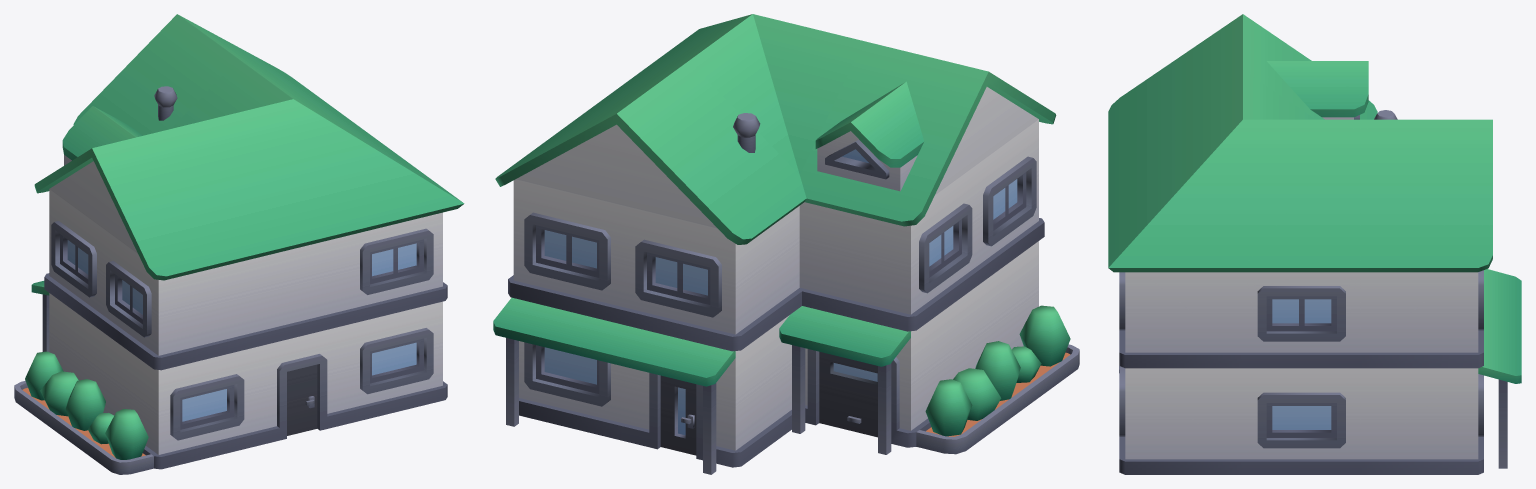
File: suburban-building-type-f.glb
3 renders of one model, left to right at view 1: azimuth 30°, elevation 25°; view 2: azimuth 150°, elevation 25°; view 3: azimuth 270°, elevation 25°, orthographic. The views are drawn at different scales.
Parts seen in each view (by area): view 1: building-type-f; view 2: building-type-f; view 3: building-type-f.
Boxes of the visible parts, x1,y1,x2,y2 form: building-type-f: [14, 14, 464, 474]; building-type-f: [493, 14, 1079, 474]; building-type-f: [1108, 14, 1521, 474].
Bounding box in the file's own units: 1.43 × 1.14 × 1.41.
1 material, 1 textured.
